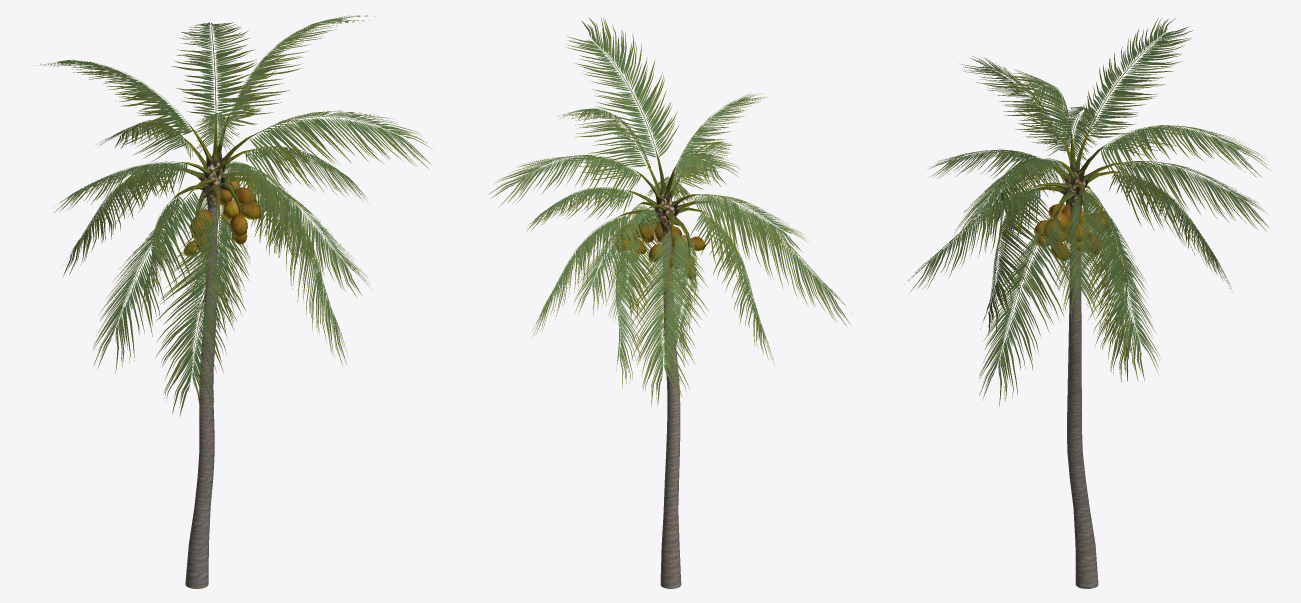
File: SM_TreeG.fbx
3 views of the same model, side by side, from view 1: azimuth 30°, elevation 25°; view 2: azimuth 150°, elevation 25°; view 3: azimuth 270°, elevation 25° (orthographic). The views are drawn at different scales.
Visible parts, largest first — view 1: pasted__polySurface58; view 2: pasted__polySurface58; view 3: pasted__polySurface58.
Boxes of the visible parts, left/top/right/bottom form: pasted__polySurface58: left=35, top=15, right=434, bottom=588; pasted__polySurface58: left=488, top=17, right=852, bottom=588; pasted__polySurface58: left=904, top=18, right=1270, bottom=588.
Bounding box in the file's own units: 598 × 928 × 586.
